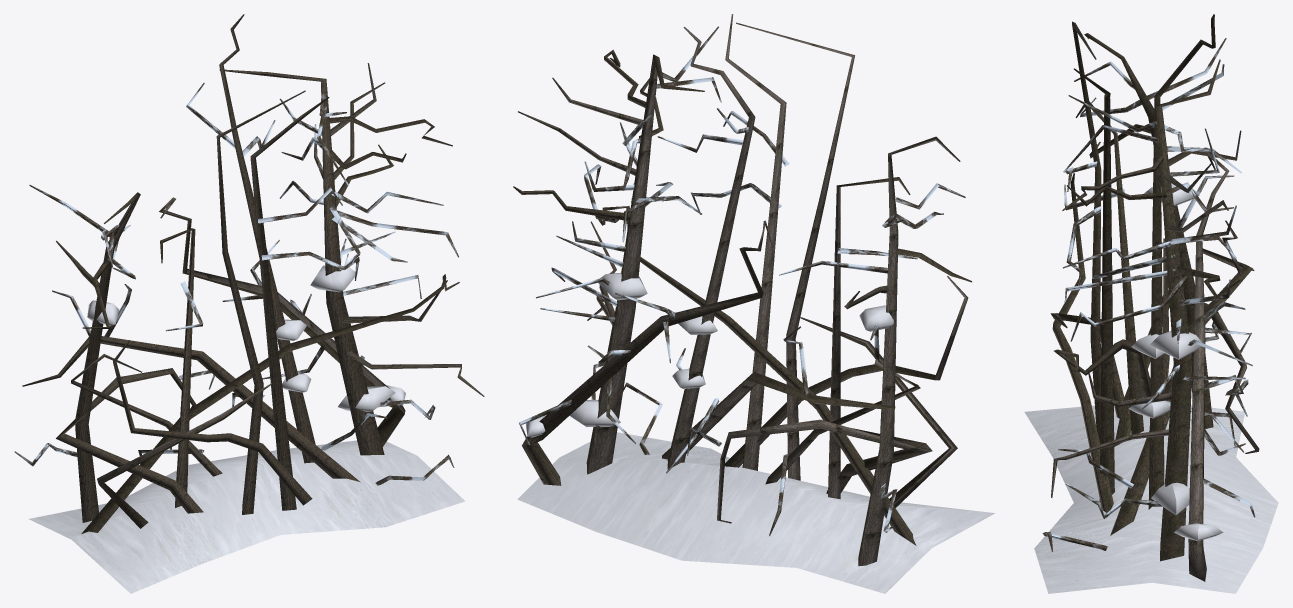
The model's file is hd_thorn3b_far.glb.
The picture shows the model from 3 angles, left to right: view 1: azimuth 30°, elevation 25°; view 2: azimuth 150°, elevation 25°; view 3: azimuth 270°, elevation 25°; orthographic projection. The views are drawn at different scales.
Visible parts, largest first — view 1: hd_thorn3b_far; view 2: hd_thorn3b_far; view 3: hd_thorn3b_far.
Part boxes in pixels (bbox=[...]): hd_thorn3b_far: bbox=[14, 14, 484, 593]; hd_thorn3b_far: bbox=[513, 14, 994, 593]; hd_thorn3b_far: bbox=[1024, 14, 1278, 593].
Bounding box in the file's own units: 2.74 × 3.23 × 1.48.
1 material, 1 textured.
